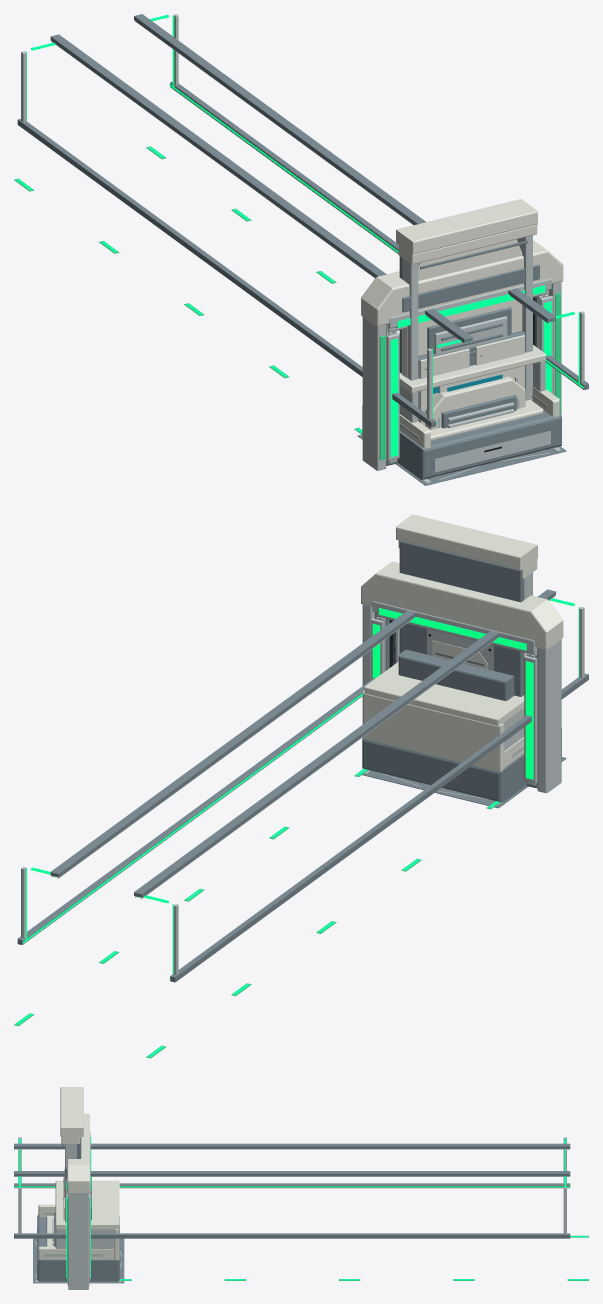
The model's file is genesis-cinematic-kit.glb.
3 views of the same model, one above another, from view 1: azimuth 30°, elevation 25°; view 2: azimuth 150°, elevation 25°; view 3: azimuth 270°, elevation 25° (orthographic). The views are drawn at different scales.
Parts seen in each view (by area): view 1: corridor-guides__graphite, exterior-facade__composite, sleep-berth__graphite, entrance-crown__composite, sleep-berth__composite, exterior-facade__titanium, corridor-guides__titanium, entrance-crown__titanium, life-support__composite, sleep-berth__titanium, green-airlock__titanium, green-airlock__green (+7 smaller); view 2: corridor-guides__graphite, sleep-berth__composite, entrance-crown__composite, exterior-facade__graphite, sleep-berth__graphite, entrance-crown__titanium, exterior-facade__composite, corridor-guides__titanium, green-airlock__titanium, life-support__graphite, green-airlock__green, corridor-guides__green (+2 smaller); view 3: corridor-guides__graphite, corridor-guides__titanium, sleep-berth__composite, entrance-crown__titanium, sleep-berth__graphite, corridor-guides__green, exterior-facade__composite, entrance-crown__composite, sleep-berth__titanium, floor-cassette__graphite, exterior-facade__titanium.
Boxes of the visible parts, x1,y1,x2,y2 form: corridor-guides__graphite: [17, 14, 588, 427]; exterior-facade__composite: [396, 199, 537, 377]; sleep-berth__graphite: [362, 405, 561, 479]; entrance-crown__composite: [361, 240, 563, 326]; sleep-berth__composite: [399, 345, 559, 479]; exterior-facade__titanium: [402, 235, 532, 420]; corridor-guides__titanium: [21, 14, 584, 425]; entrance-crown__titanium: [362, 282, 561, 470]; life-support__composite: [420, 335, 524, 425]; sleep-berth__titanium: [399, 360, 550, 472]; green-airlock__titanium: [386, 278, 552, 463]; green-airlock__green: [390, 285, 551, 457]; corridor-guides__graphite: [17, 589, 588, 982]; sleep-berth__composite: [363, 662, 524, 800]; entrance-crown__composite: [361, 561, 563, 649]; exterior-facade__graphite: [399, 540, 524, 696]; sleep-berth__graphite: [362, 728, 561, 802]; entrance-crown__titanium: [362, 604, 561, 793]; exterior-facade__composite: [396, 514, 537, 656]; corridor-guides__titanium: [21, 596, 584, 980]; green-airlock__titanium: [371, 601, 537, 785]; life-support__graphite: [398, 649, 514, 700]; green-airlock__green: [372, 608, 533, 779]; corridor-guides__green: [16, 598, 579, 1056]; corridor-guides__graphite: [14, 1143, 570, 1238]; corridor-guides__titanium: [14, 1137, 570, 1234]; sleep-berth__composite: [38, 1180, 119, 1259]; entrance-crown__titanium: [68, 1193, 88, 1289]; sleep-berth__graphite: [37, 1215, 119, 1281]; corridor-guides__green: [14, 1138, 587, 1280]; exterior-facade__composite: [60, 1087, 83, 1143]; entrance-crown__composite: [67, 1113, 89, 1192]; sleep-berth__titanium: [37, 1212, 114, 1273]; floor-cassette__graphite: [33, 1238, 124, 1283]; exterior-facade__titanium: [65, 1144, 76, 1222].
Bounding box in the file's own units: 4.43 × 5.5 × 17.61.
7 materials, 1 textured.
